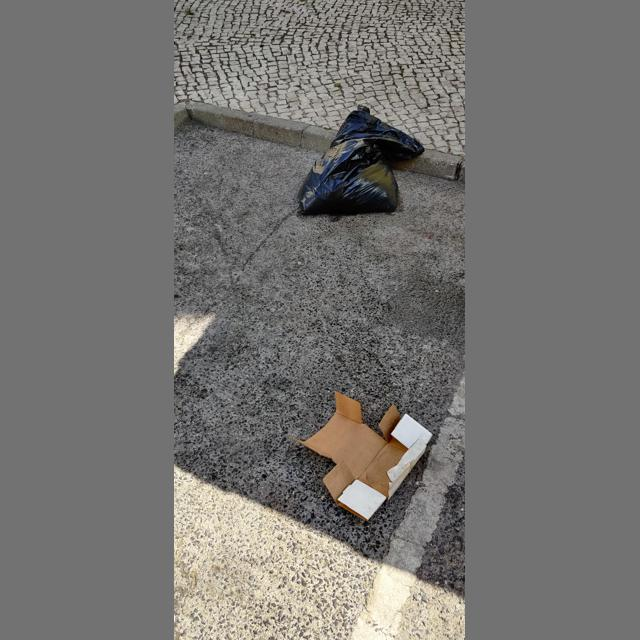litter: (293, 391, 433, 521), (299, 104, 425, 215)
